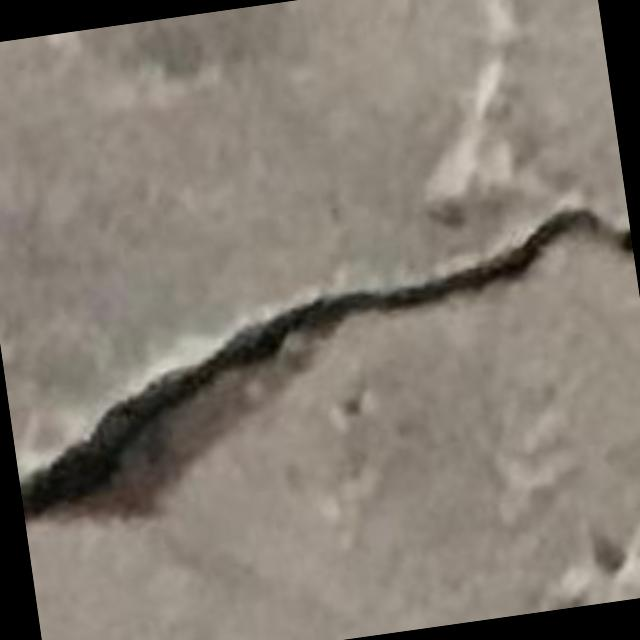crack: (20, 211, 632, 526)
